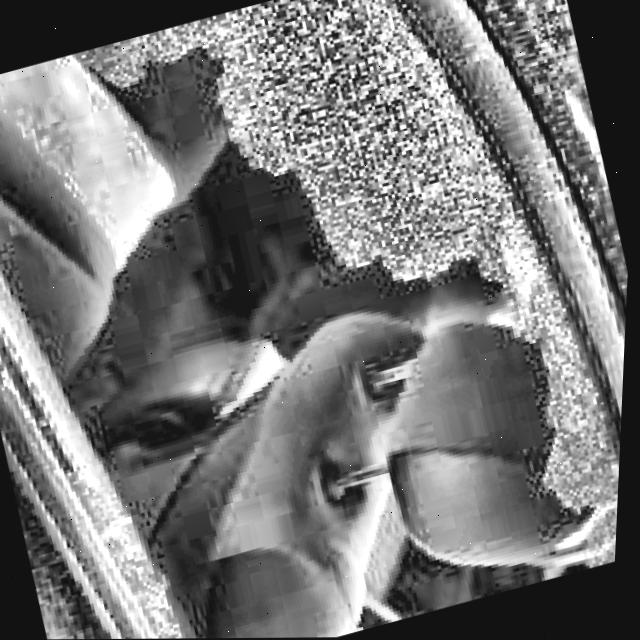glass_shatter: (154, 240, 599, 639), (0, 0, 356, 352)
